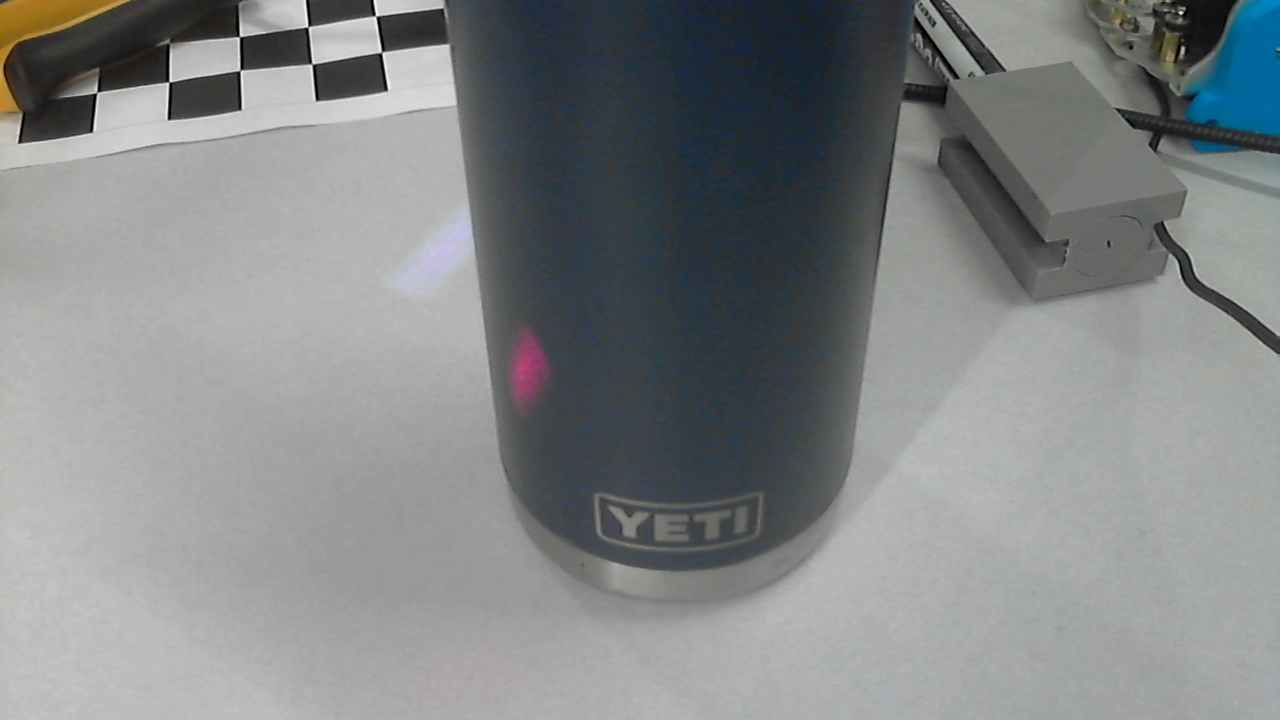Object insulated water bottle - Material metal - Color navy blue - Pdfname Uop6e: (499, 326, 560, 416)
